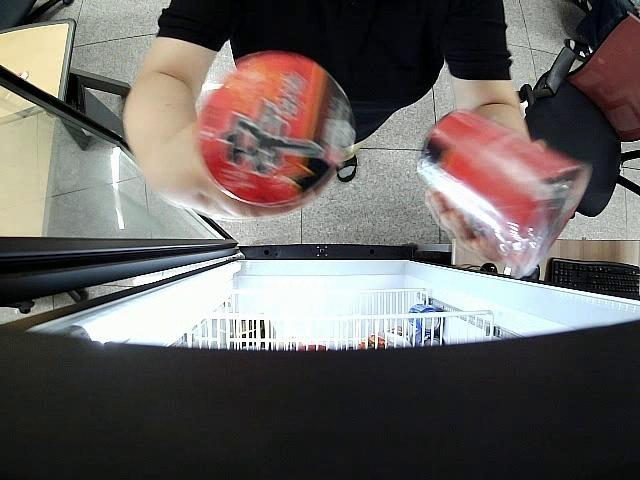02_shinRamen_S: (417, 110, 590, 278), (198, 54, 354, 210)
